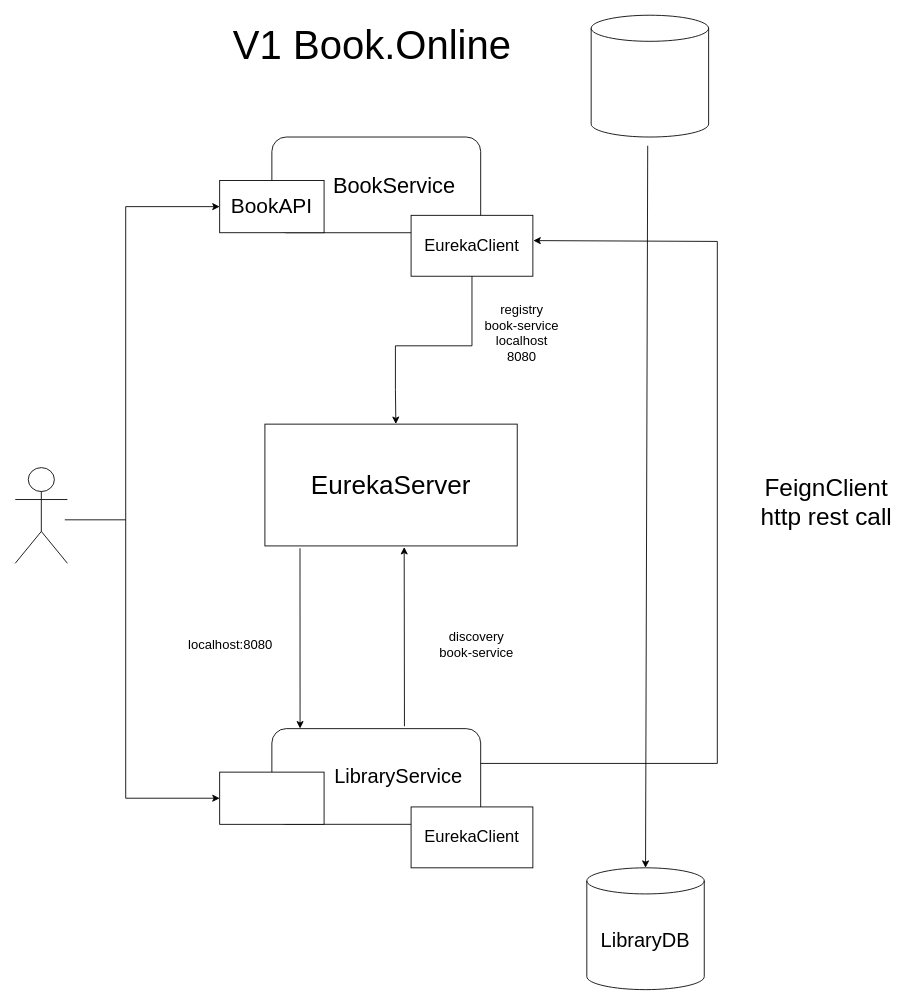
Some shapes in this 915 by 1005 pixel diagram are drawn without their labels. The centre of each missing label's shape, as x and y in pixels:
"Actor" belongs at [40,515].
"BookDB" belongs at [649,75].
"LibraryAPI" belongs at [271,797].
